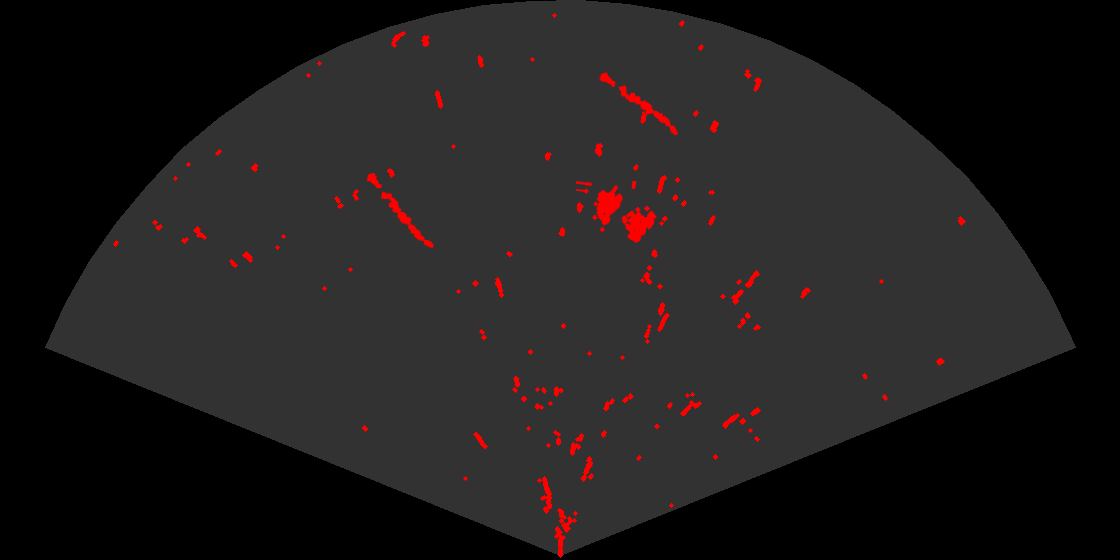cage: (576, 181, 658, 244)
chain: (365, 171, 435, 250), (598, 71, 679, 137)
